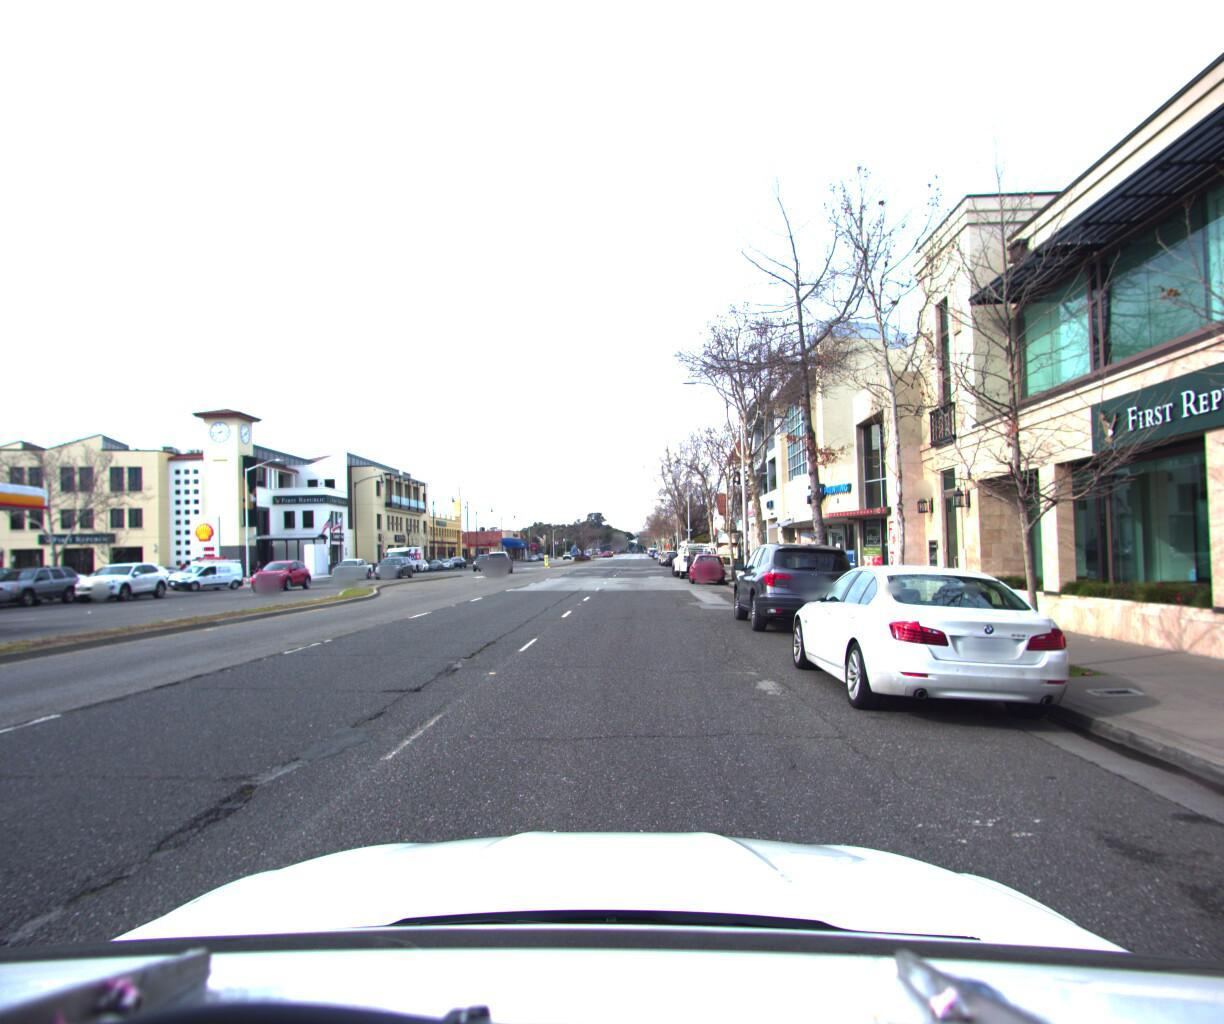car: (774, 553, 1092, 738), (722, 538, 878, 639), (73, 558, 172, 602), (162, 550, 247, 587), (248, 555, 314, 589), (672, 534, 722, 577), (686, 547, 729, 582), (332, 551, 374, 574), (374, 553, 413, 576), (485, 548, 508, 573)
